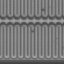dust: (40, 7, 46, 12)
